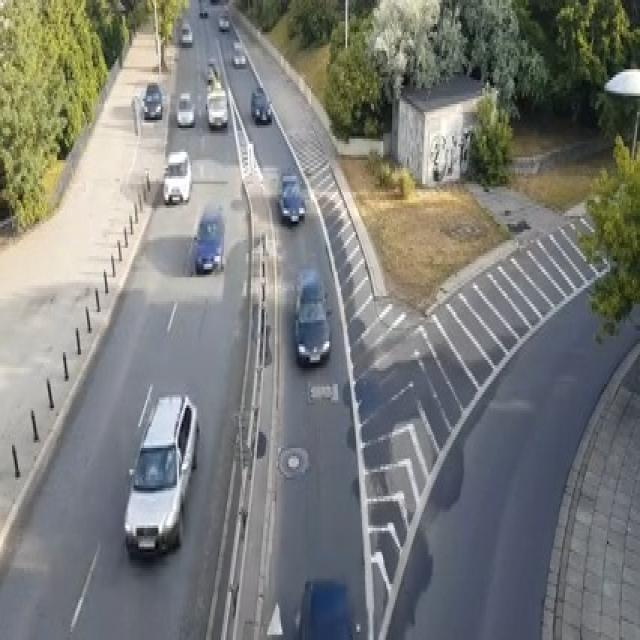car: (124, 392, 198, 557), (292, 267, 331, 365), (298, 576, 354, 637), (192, 203, 224, 272), (162, 149, 191, 203), (278, 181, 305, 224), (204, 88, 228, 128), (251, 85, 272, 123), (141, 83, 162, 120), (176, 91, 195, 125), (204, 56, 220, 83), (280, 173, 298, 195), (232, 40, 246, 67), (179, 22, 192, 46), (218, 8, 230, 29), (198, 0, 208, 16)
